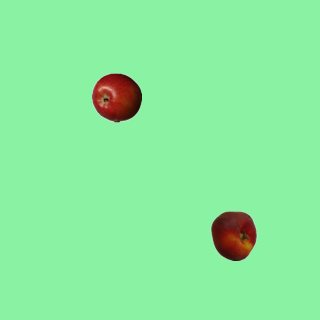Apple Braeburn: (91, 72, 141, 122)
Nectarine Flat: (208, 210, 258, 260)
